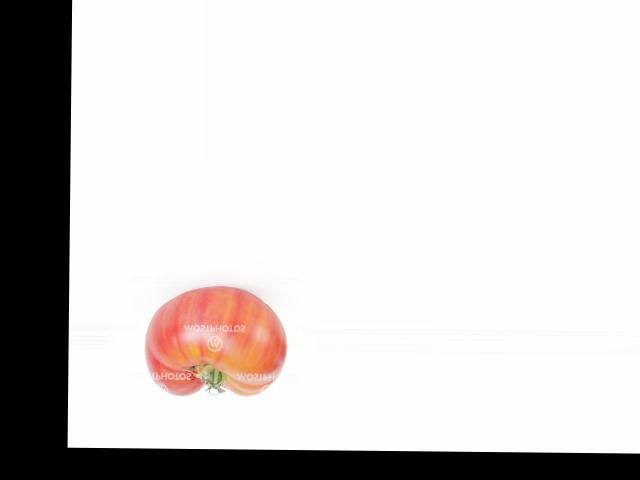tomato: (145, 285, 288, 397)
